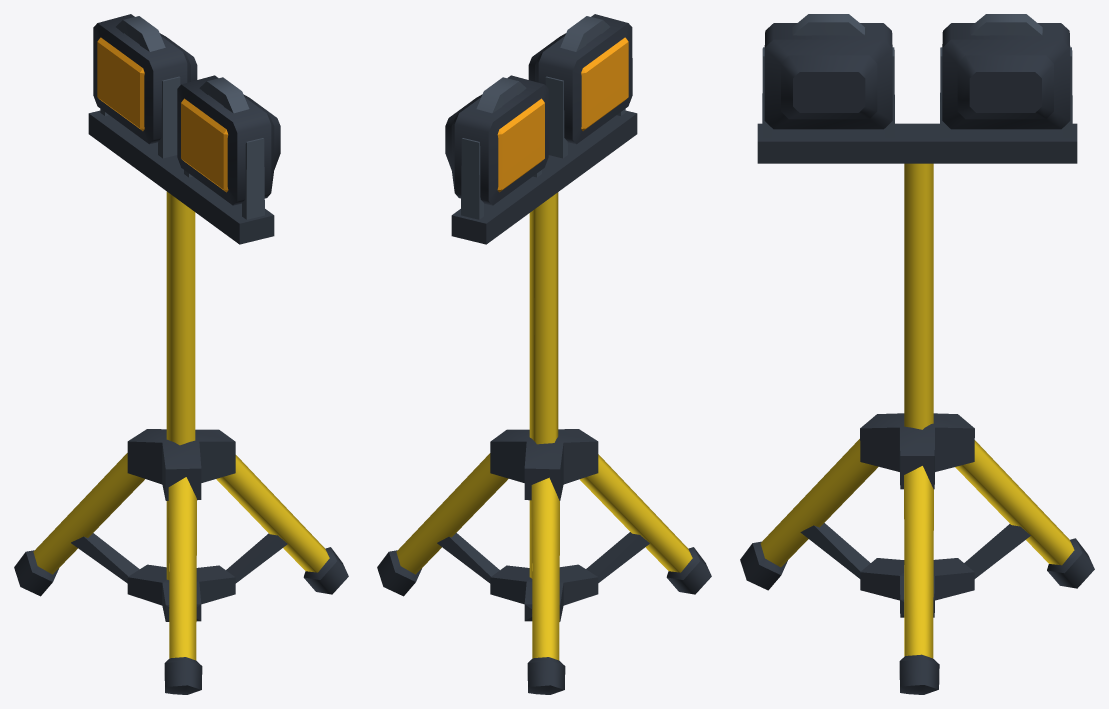
File: LightsC_1_D.fbx
The picture shows the model from 3 angles, left to right: view 1: azimuth 30°, elevation 25°; view 2: azimuth 150°, elevation 25°; view 3: azimuth 270°, elevation 25°; orthographic projection. The views are drawn at different scales.
Parts seen in each view (by area): view 1: LightsC_1_D; view 2: LightsC_1_D; view 3: LightsC_1_D.
Boxes of the visible parts, bbox=[...] form: LightsC_1_D: bbox=[14, 14, 348, 694]; LightsC_1_D: bbox=[377, 14, 711, 694]; LightsC_1_D: bbox=[740, 14, 1094, 694].
Bounding box in the file's own units: 75.14 × 160 × 85.05.
